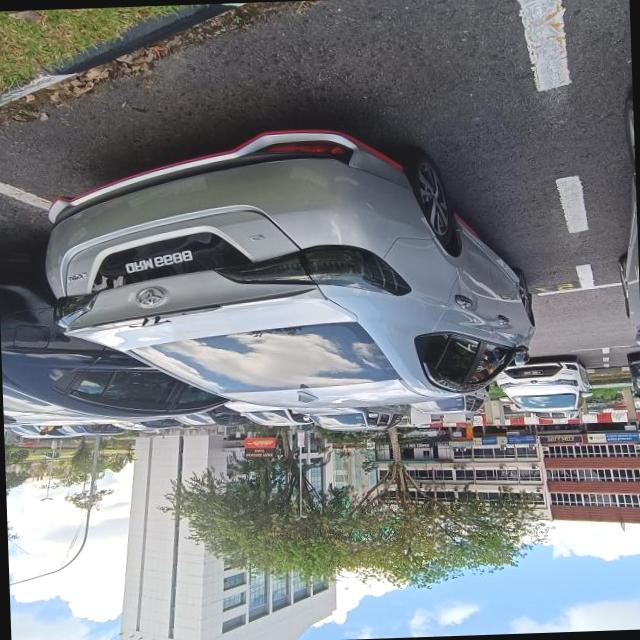ToyotaVios: (38, 120, 538, 420)
